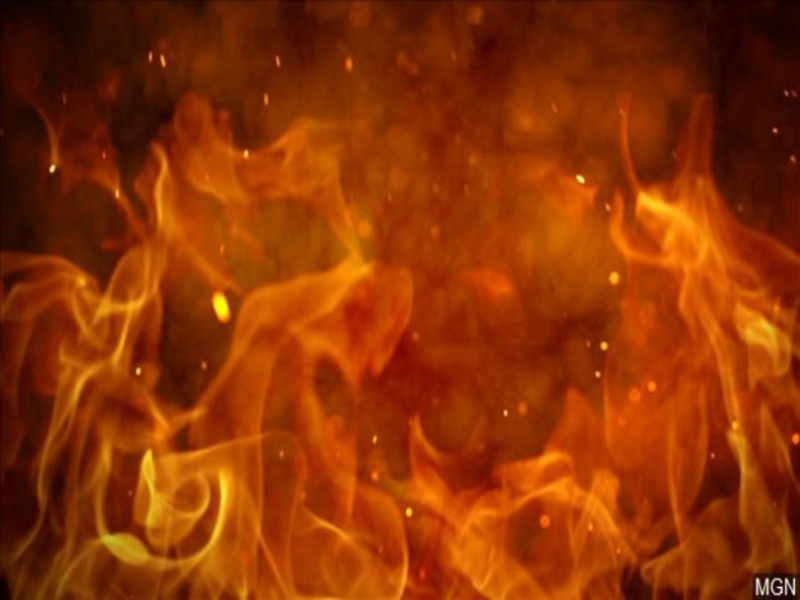fire: (1, 1, 800, 598)
